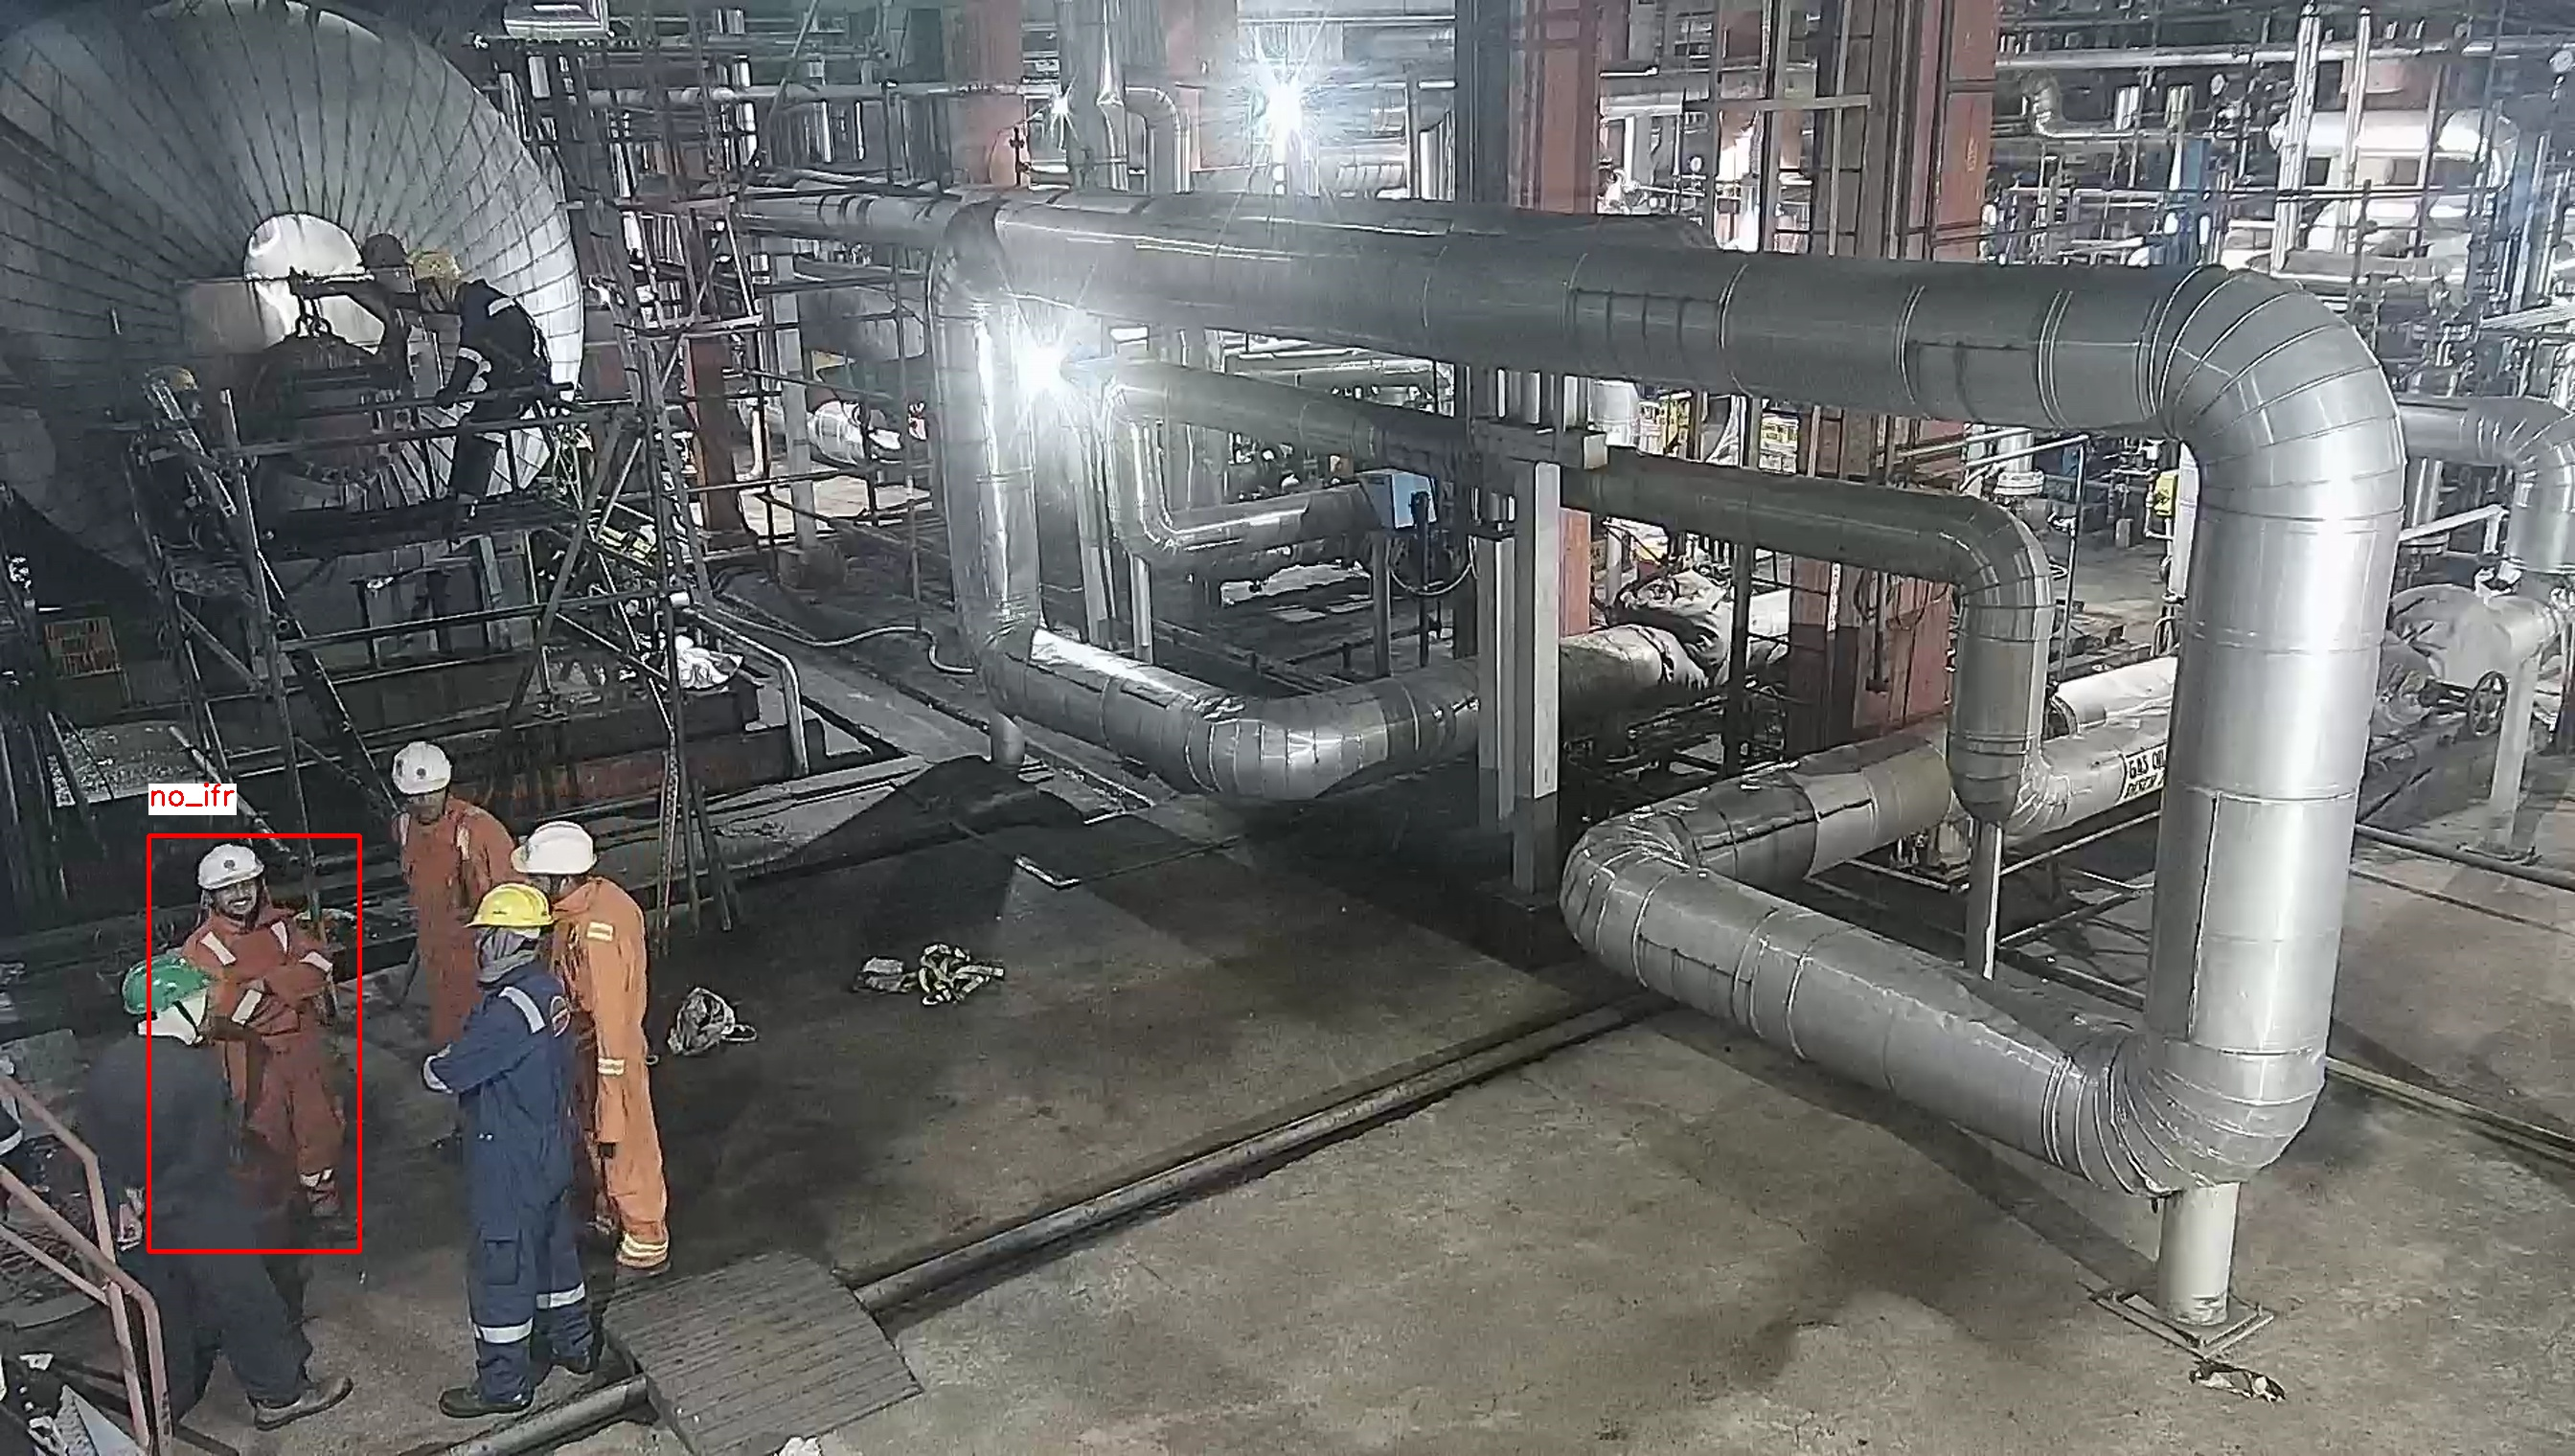Boots: (244, 1368, 359, 1429), (428, 1380, 534, 1419)
Helmets: (509, 817, 603, 881), (382, 739, 460, 805), (463, 883, 561, 931), (193, 840, 271, 888)
IFR_Suit: (421, 957, 600, 1353), (546, 885, 688, 1267), (186, 915, 348, 1221)
